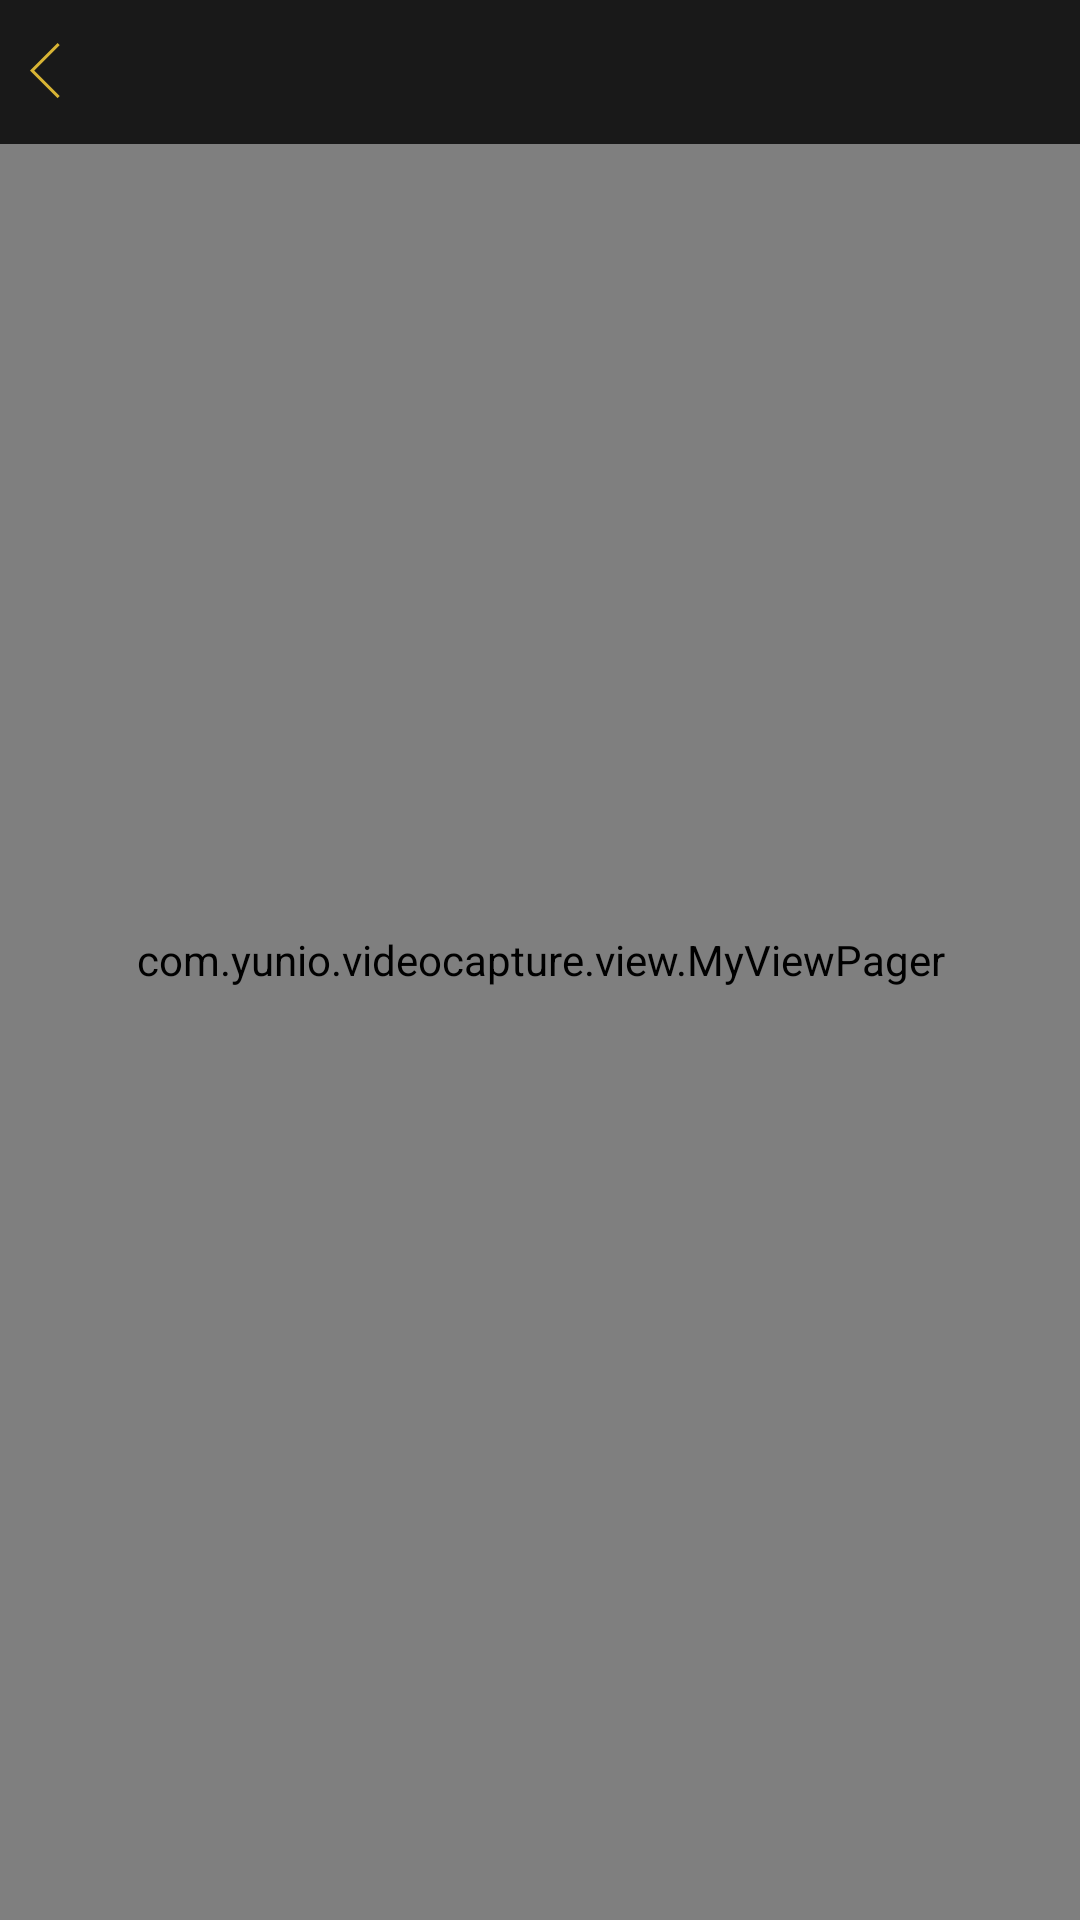

Where icons sit on this 1080 × 1920 app screen, as (x1, y1, x2, y2):
back: (30, 43, 60, 98)
